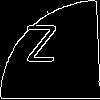Z: (25, 25, 58, 72)
